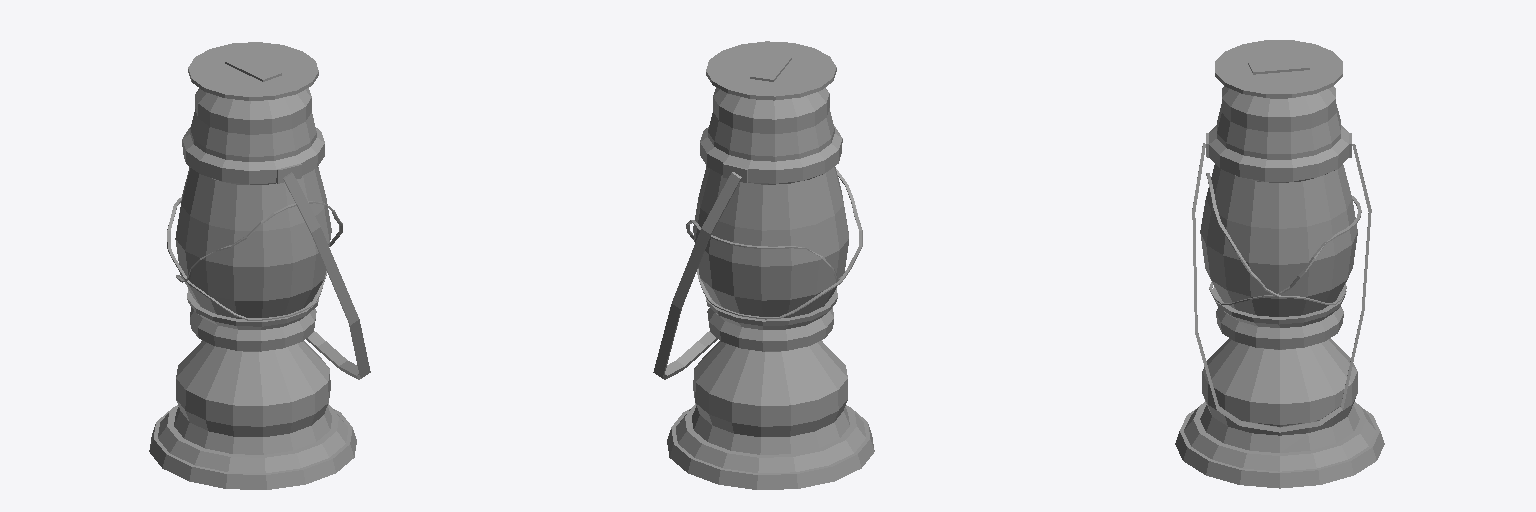
The model's file is Lantern.obj.
3 renders of one model, left to right at view 1: azimuth 30°, elevation 25°; view 2: azimuth 150°, elevation 25°; view 3: azimuth 270°, elevation 25°, orthographic.
Parts seen in each view (by area): view 1: Lantern, LanternGlass; view 2: Lantern, LanternGlass; view 3: Lantern, LanternGlass.
Boxes of the visible parts, <box> form: Lantern: <box>149,42,370,489</box>; LanternGlass: <box>175,167,331,318</box>; Lantern: <box>653,41,874,489</box>; LanternGlass: <box>693,166,848,317</box>; Lantern: <box>1175,40,1384,488</box>; LanternGlass: <box>1200,164,1357,316</box>.
Bounding box in the file's own units: 0.1438 × 0.2782 × 0.1395.